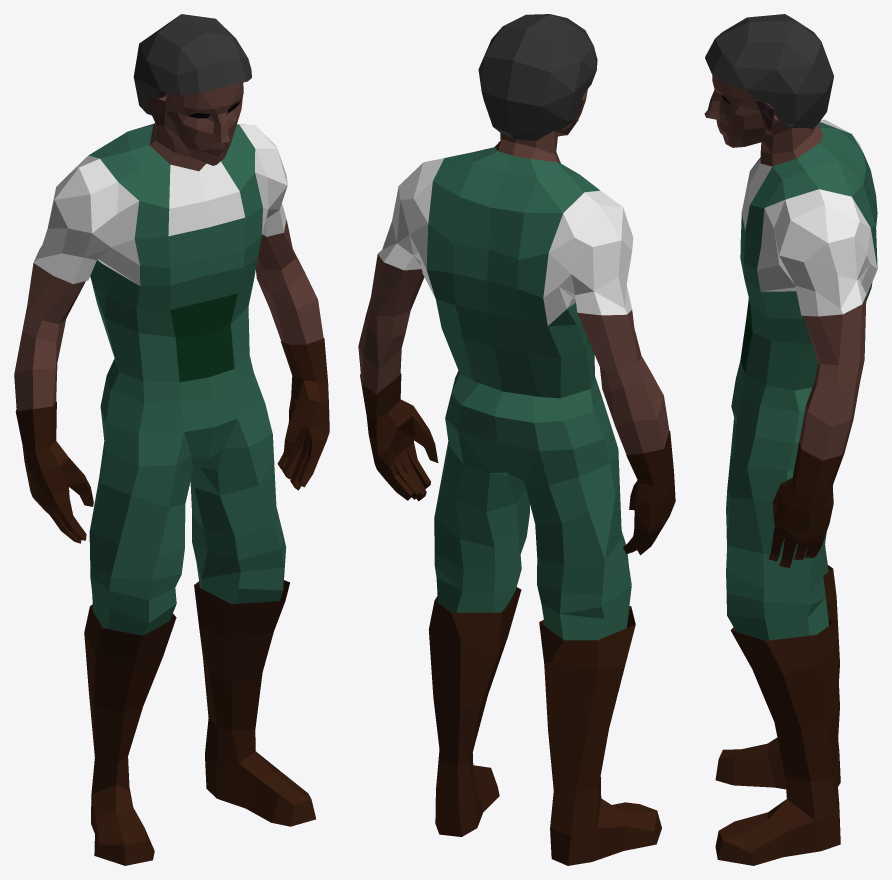
The model's file is Male_11.FBX.
3 views of the same model, side by side, from view 1: azimuth 30°, elevation 25°; view 2: azimuth 150°, elevation 25°; view 3: azimuth 270°, elevation 25° (orthographic).
Parts seen in each view (by area): view 1: Male_11; view 2: Male_11; view 3: Male_11.
Boxes of the visible parts, box(x1,y1,x2,y2) form: Male_11: box(14, 14, 329, 865); Male_11: box(358, 14, 675, 865); Male_11: box(704, 14, 877, 865).
Size of the model in its own units: 0.712 by 1.79 by 0.3544.
1 material, 1 textured.
